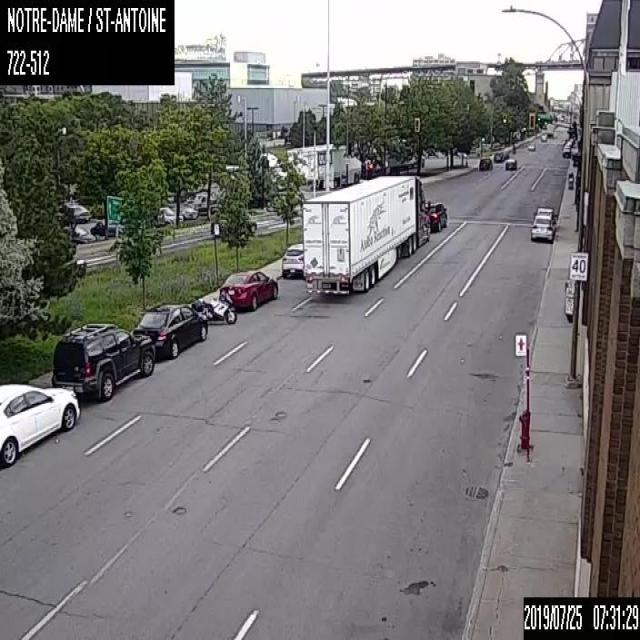vehicle: (302, 173, 430, 293), (51, 320, 153, 398), (0, 382, 79, 467), (132, 303, 208, 358), (219, 270, 278, 308), (305, 149, 363, 182), (194, 290, 237, 323), (381, 142, 424, 172), (281, 242, 303, 278), (530, 214, 553, 243), (425, 201, 447, 229), (532, 206, 555, 229), (90, 219, 122, 235), (157, 204, 182, 223), (70, 223, 96, 241), (478, 157, 492, 169), (504, 157, 516, 169), (493, 150, 503, 160), (526, 141, 536, 150)
